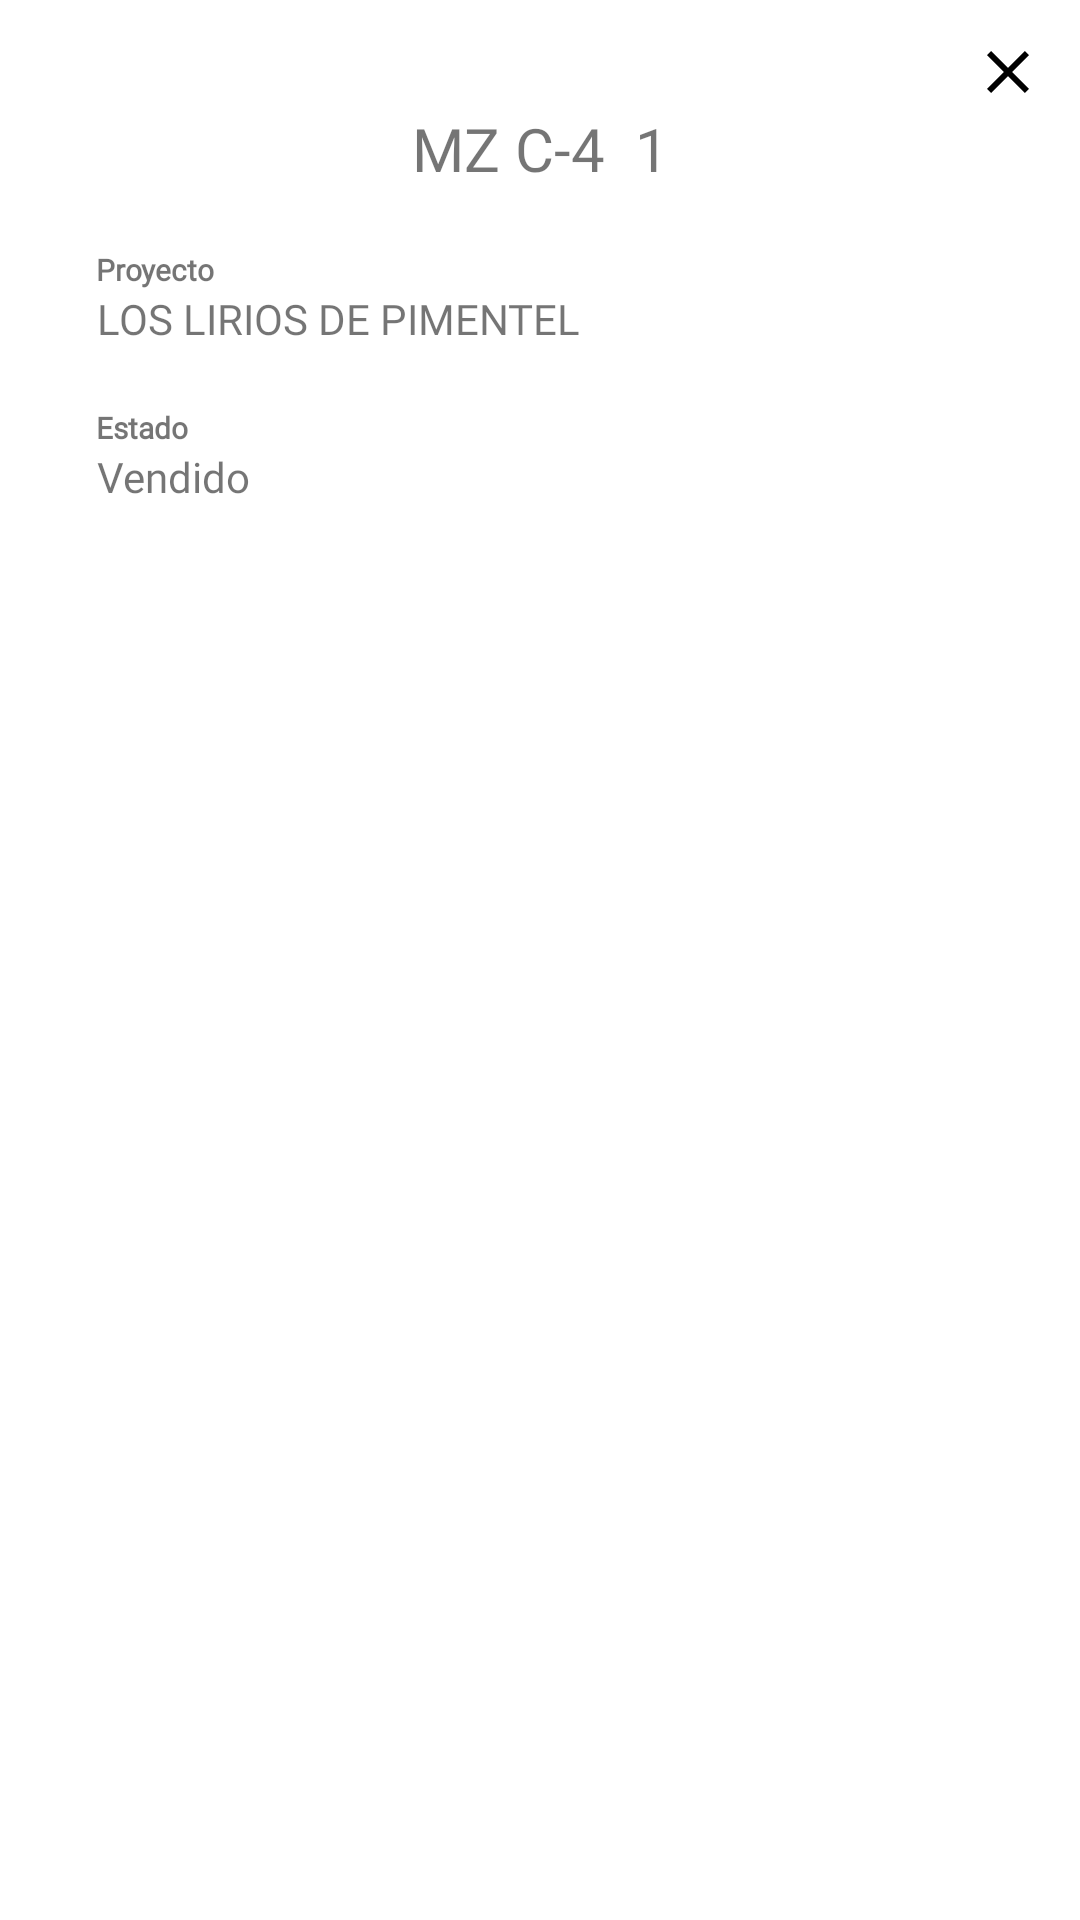

Icon click points for this 1080px×1920px phone screenshot, format [x,y]:
close: [1008,72]
